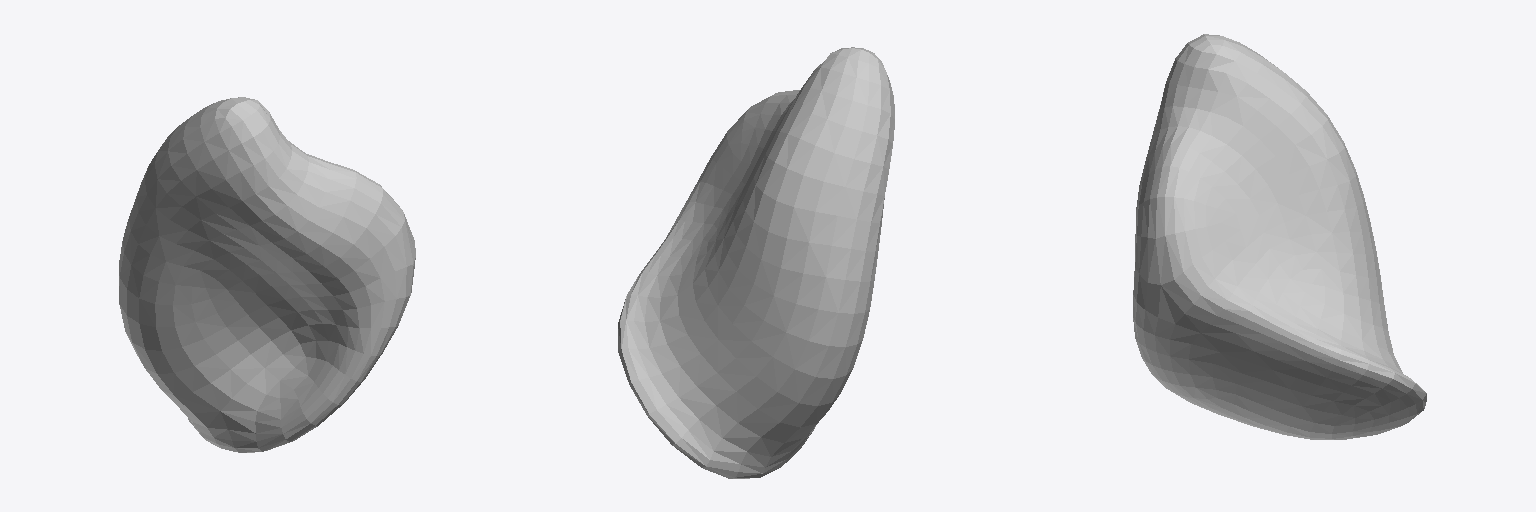
The model's file is Ear.obj.
3 views of the same model, side by side, from view 1: azimuth 30°, elevation 25°; view 2: azimuth 150°, elevation 25°; view 3: azimuth 270°, elevation 25° (orthographic).
Visible parts, largest first — view 1: Group35671; view 2: Group35671; view 3: Group35671.
Part boxes in pixels (left/top/right/bottom): Group35671: left=119, top=97, right=415, bottom=452; Group35671: left=618, top=47, right=894, bottom=478; Group35671: left=1133, top=34, right=1426, bottom=439.
Bounding box in the file's own units: 34.53 × 56.09 × 38.73.